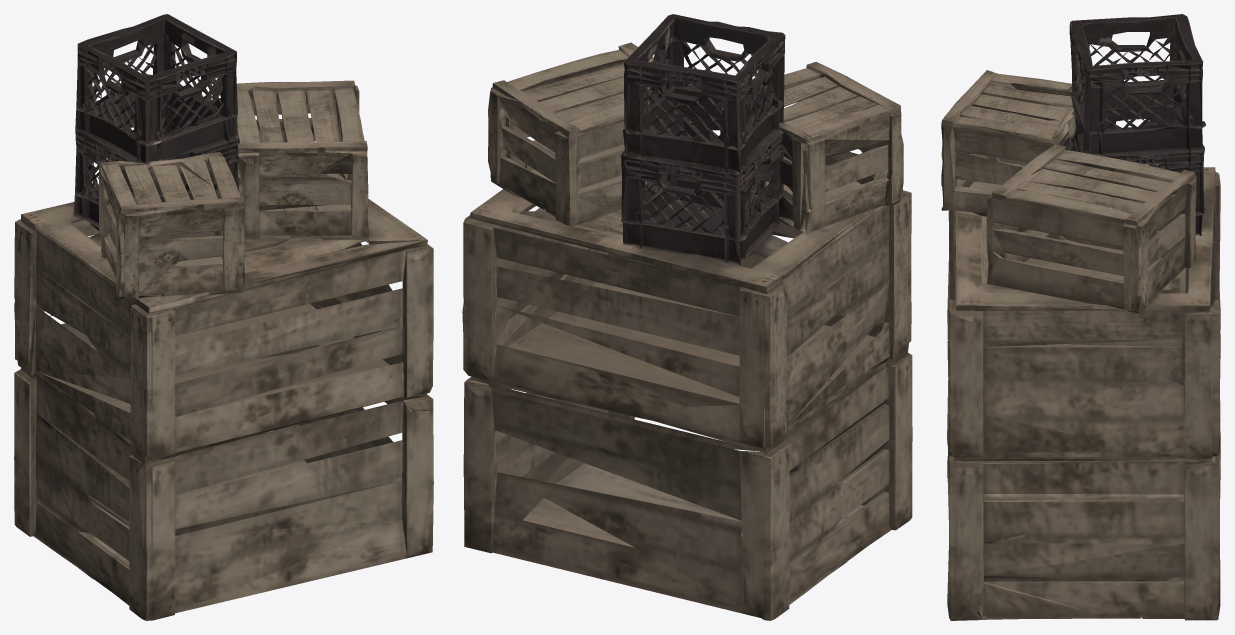
The model's file is caisses.glb.
The picture shows the model from 3 angles, left to right: view 1: azimuth 30°, elevation 25°; view 2: azimuth 150°, elevation 25°; view 3: azimuth 270°, elevation 25°; orthographic projection. The views are drawn at different scales.
Visible parts, largest first — view 1: output_unwrapped; view 2: output_unwrapped; view 3: output_unwrapped.
Part boxes in pixels (x1,y1,x2,y2): output_unwrapped: (14,14,433,620); output_unwrapped: (462,14,912,620); output_unwrapped: (941,14,1220,620).
Size of the model in its own units: 1.29 by 1.9 by 0.9866.
Materials: 1 (1 with a texture image).
